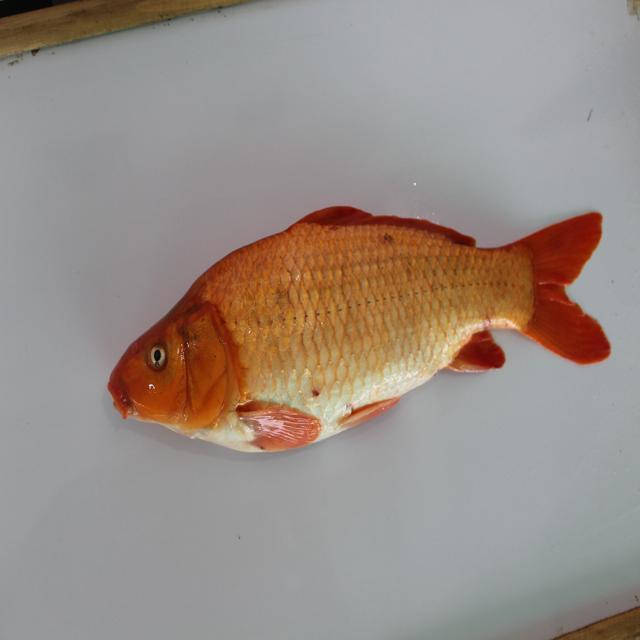Gold-Fish: (80, 155, 620, 482)
